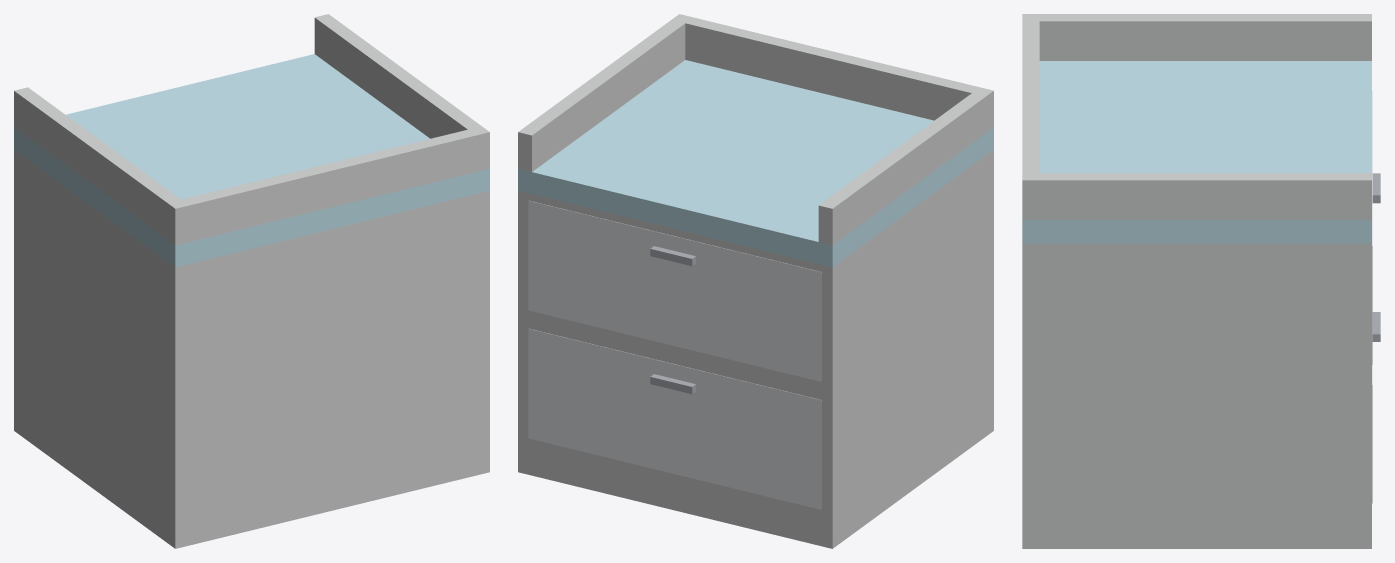
File: stol-pelenalnyy.glb
3 views of the same model, side by side, from view 1: azimuth 30°, elevation 25°; view 2: azimuth 150°, elevation 25°; view 3: azimuth 270°, elevation 25° (orthographic). The views are drawn at different scales.
Bounding box in the file's own units: 0.9 × 0.93 × 0.82.
